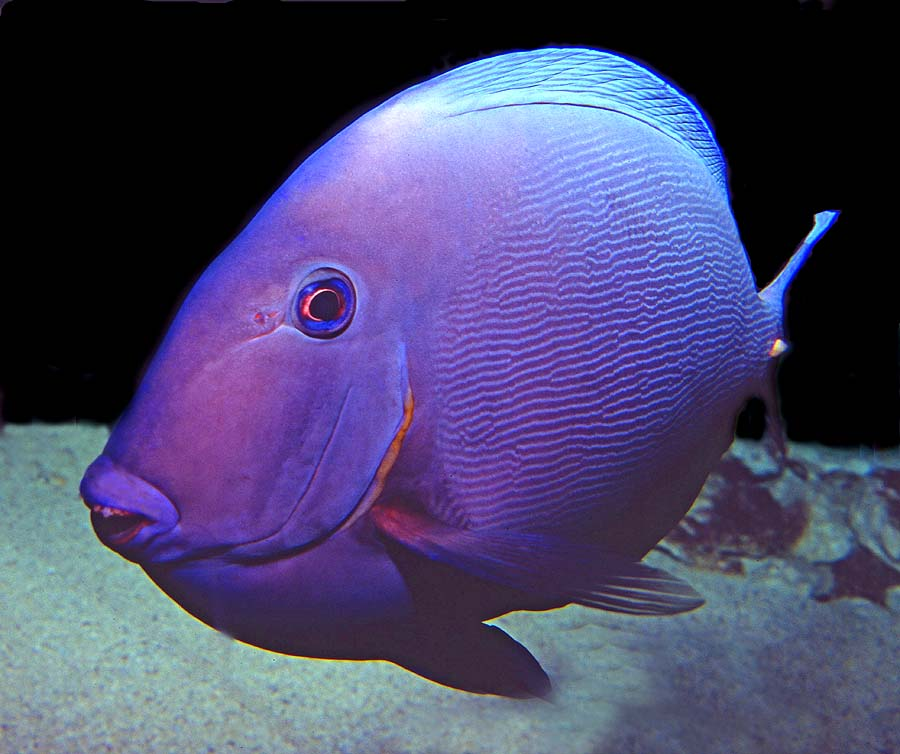Acanthurus_coeruleus: (74, 40, 844, 705)
